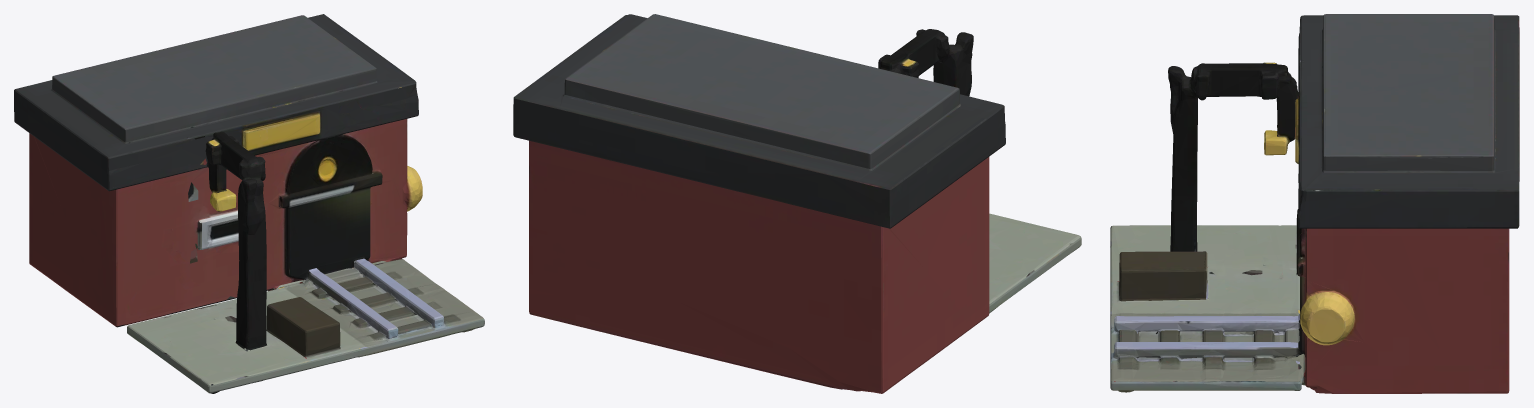
Rendered from train-depot.glb.
3 renders of one model, left to right at view 1: azimuth 30°, elevation 25°; view 2: azimuth 150°, elevation 25°; view 3: azimuth 270°, elevation 25°, orthographic. The views are drawn at different scales.
Visible parts, largest first — view 1: tmptzz9i8c3.ply; view 2: tmptzz9i8c3.ply; view 3: tmptzz9i8c3.ply.
Part boxes in pixels (x1=…): tmptzz9i8c3.ply: x1=14, y1=14, x2=484, y2=393; tmptzz9i8c3.ply: x1=513, y1=14, x2=1081, y2=393; tmptzz9i8c3.ply: x1=1110, y1=14, x2=1519, y2=393.
Size of the model in its own units: 1 by 0.6001 by 0.96.
1 material, 1 textured.
